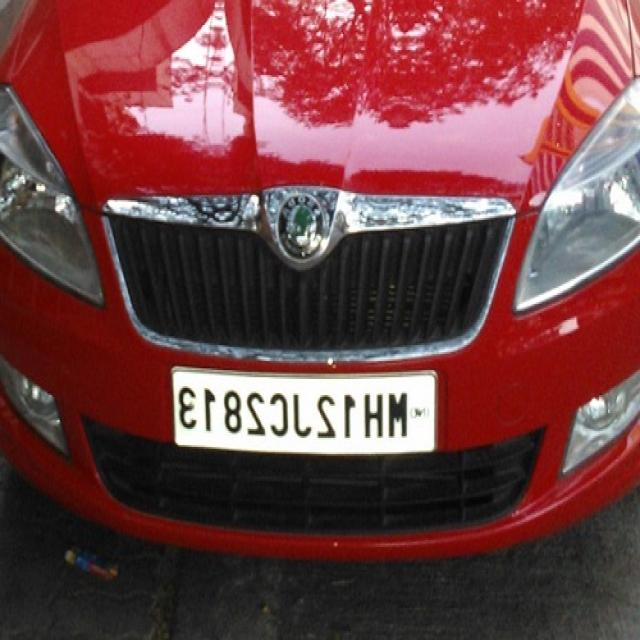number-plate: (164, 365, 438, 466)
